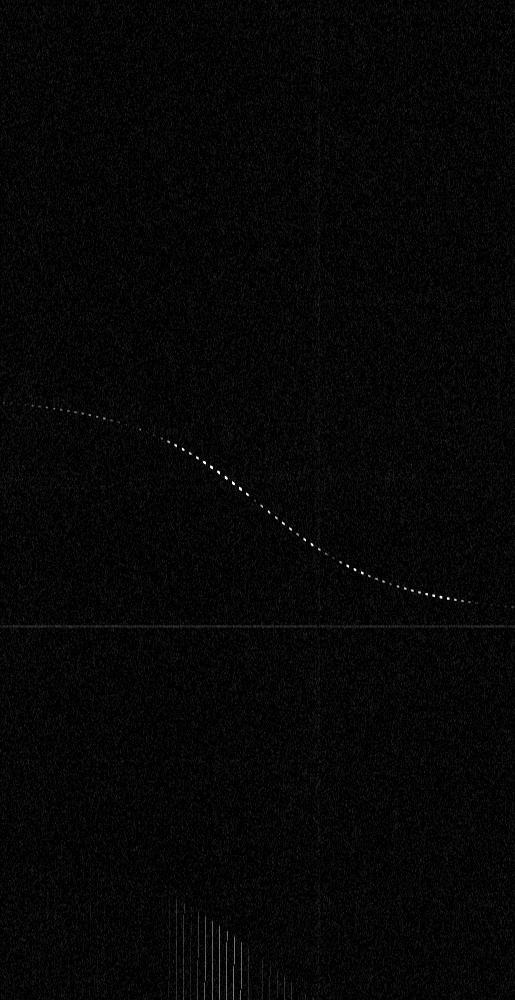signal: (0, 0, 514, 999)
